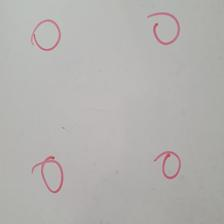association: (32, 156, 64, 193), (148, 13, 180, 45), (33, 19, 61, 51), (155, 151, 181, 179)
